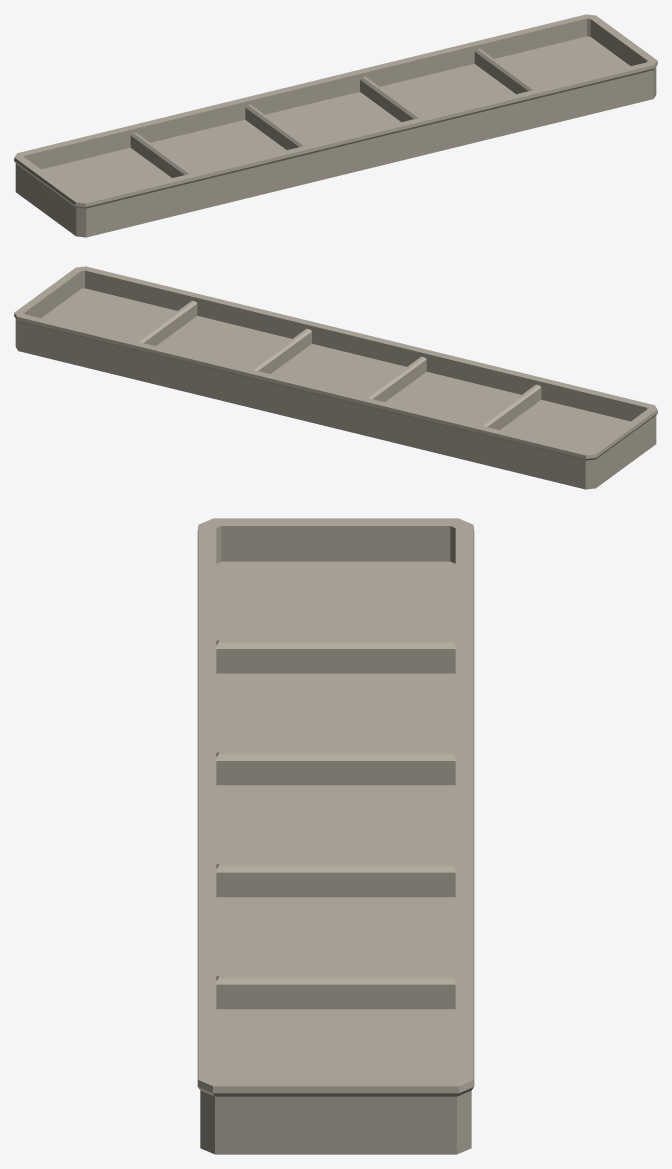
File: SM_Cook_ToppingTray_01.fbx
The picture shows the model from 3 angles, top to bottom: view 1: azimuth 30°, elevation 25°; view 2: azimuth 150°, elevation 25°; view 3: azimuth 270°, elevation 25°; orthographic projection. The views are drawn at different scales.
Visible parts, largest first — view 1: SM_Cook_ToppingTray_01; view 2: SM_Cook_ToppingTray_01; view 3: SM_Cook_ToppingTray_01.
Boxes of the visible parts, bbox=[...] form: SM_Cook_ToppingTray_01: bbox=[14, 14, 657, 237]; SM_Cook_ToppingTray_01: bbox=[14, 266, 657, 489]; SM_Cook_ToppingTray_01: bbox=[197, 518, 474, 1154].
Bounding box in the file's own units: 1.09 × 0.062 × 0.225.
1 material, 1 textured.
